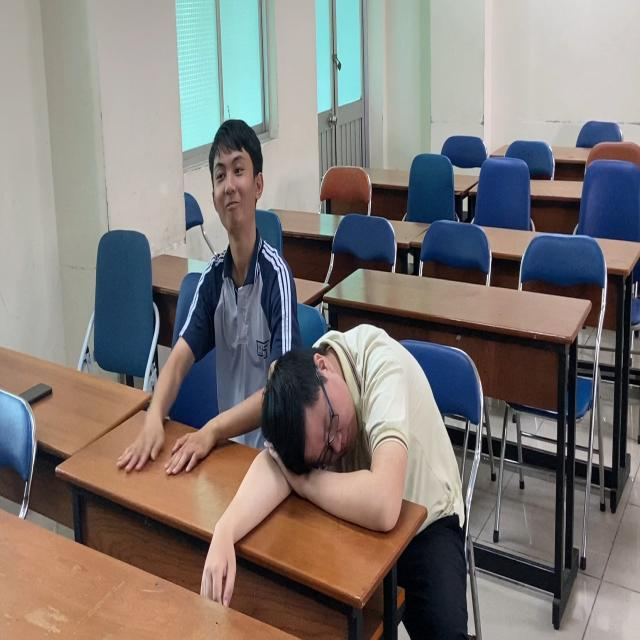sleep: (241, 317, 464, 541)
